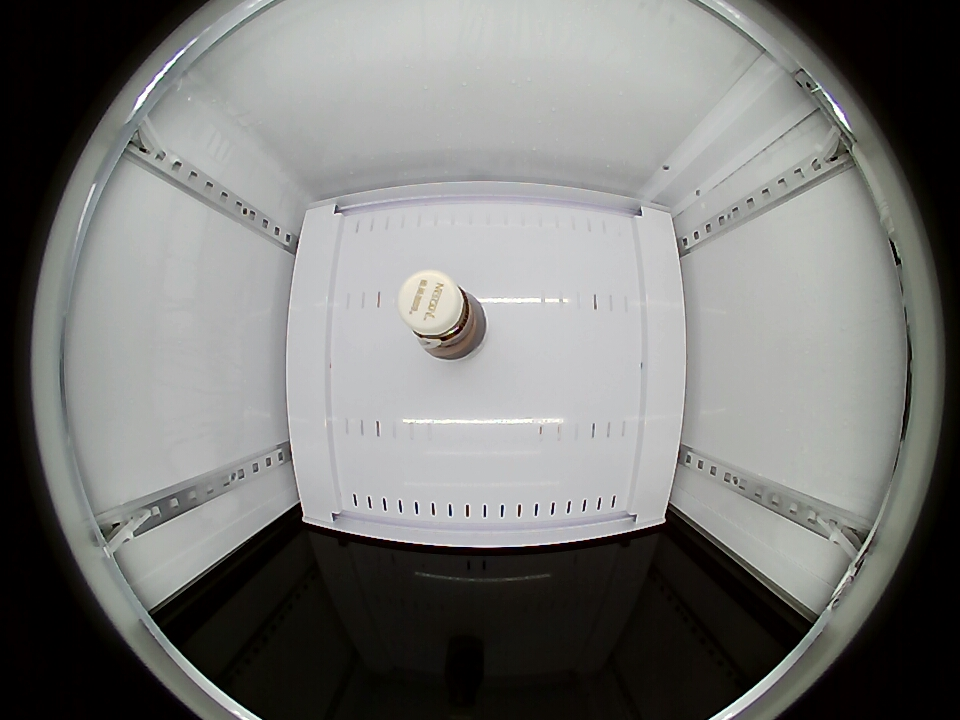kafei: (400, 271, 488, 359)
